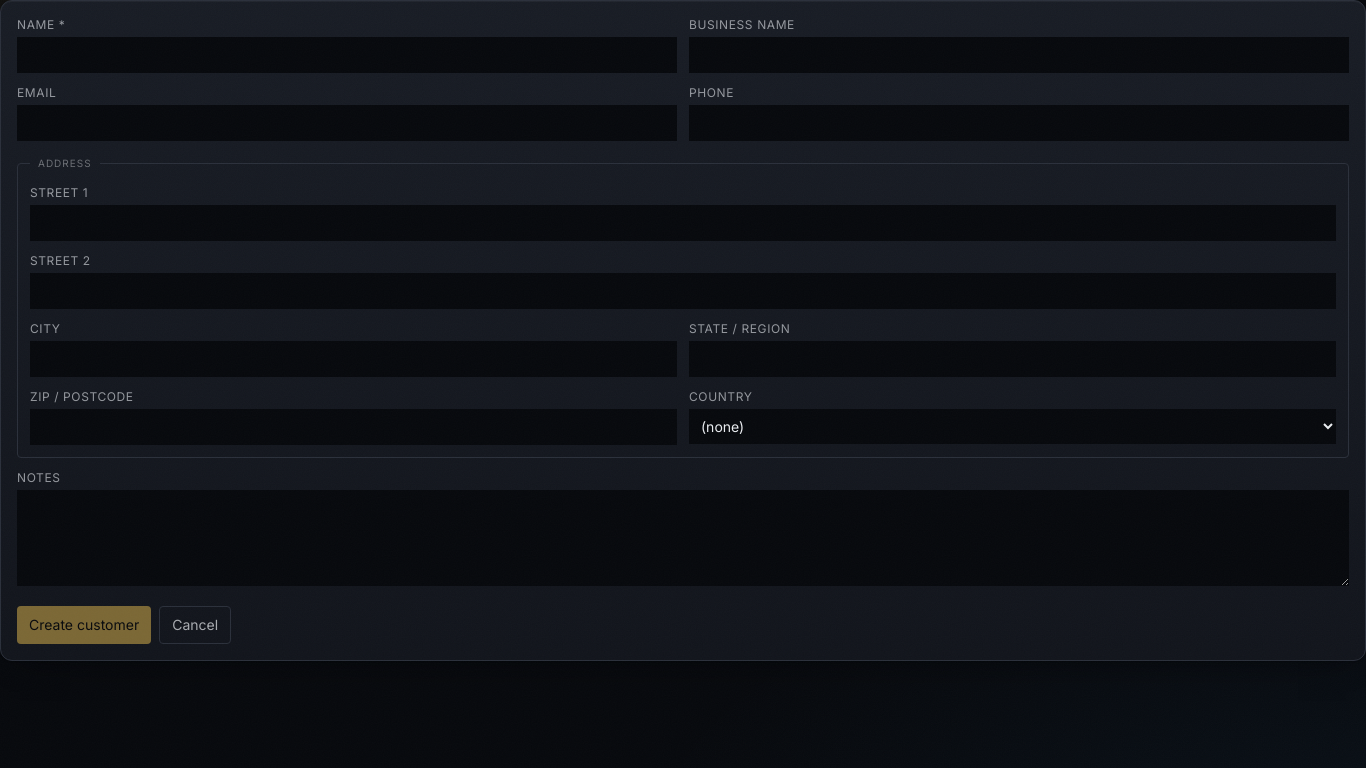
Test: CustomerForm — create mode › renders the action's error message under role=alert and does not navigate
The width and height of the screenshot is (1366, 768).
Type "x" into the field labelled "Name".
click(347, 55); type("x")  # box [17,37,677,73]
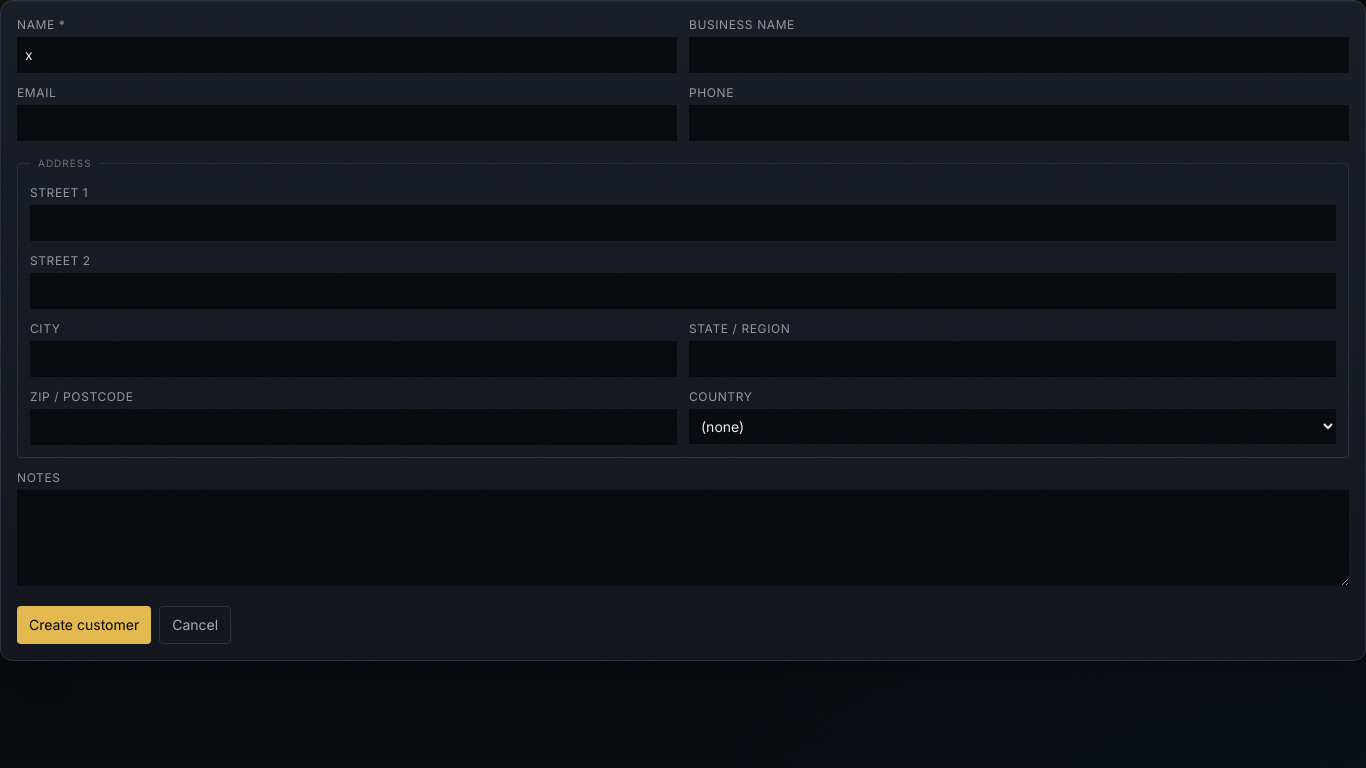
Click the button "Create customer".
click(84, 625)  # box [17,606,151,644]
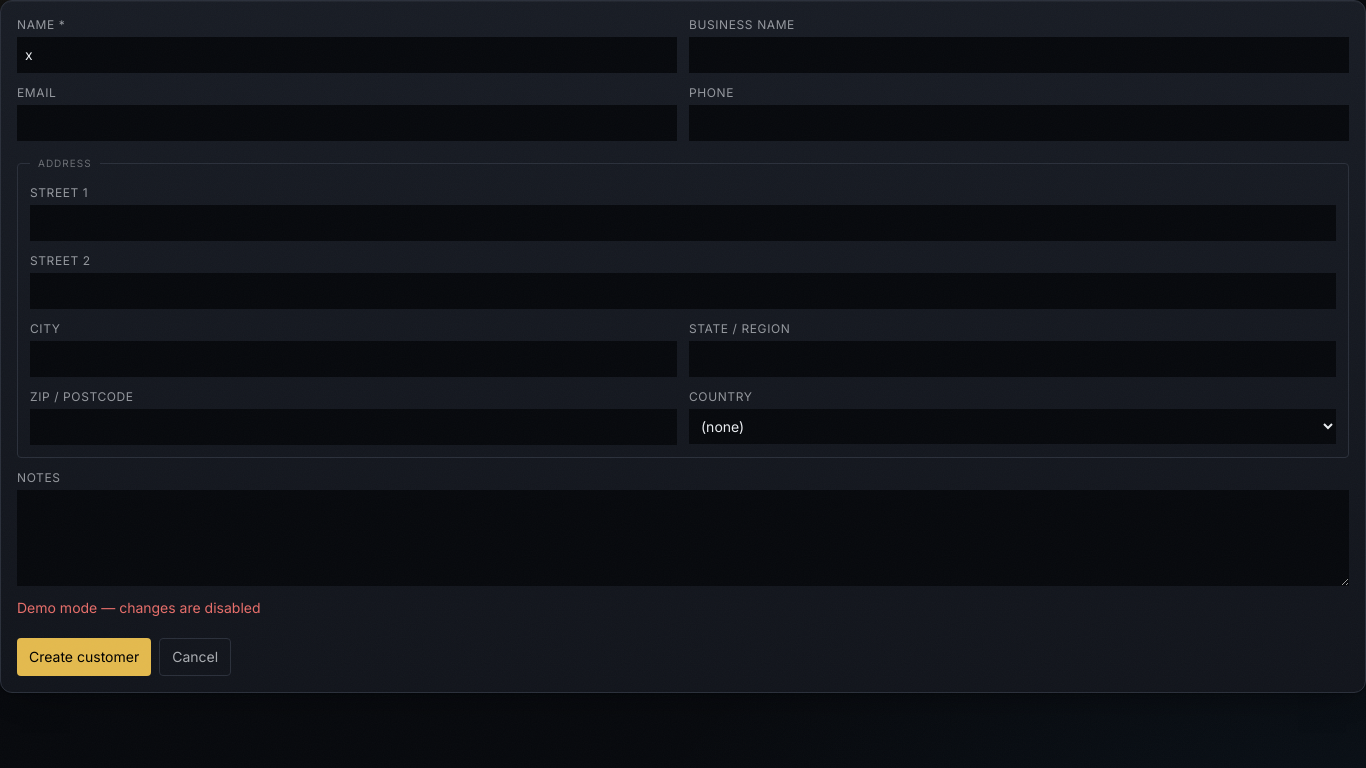
Expected: the message shows "Demo mode", [17,599,260,616]
